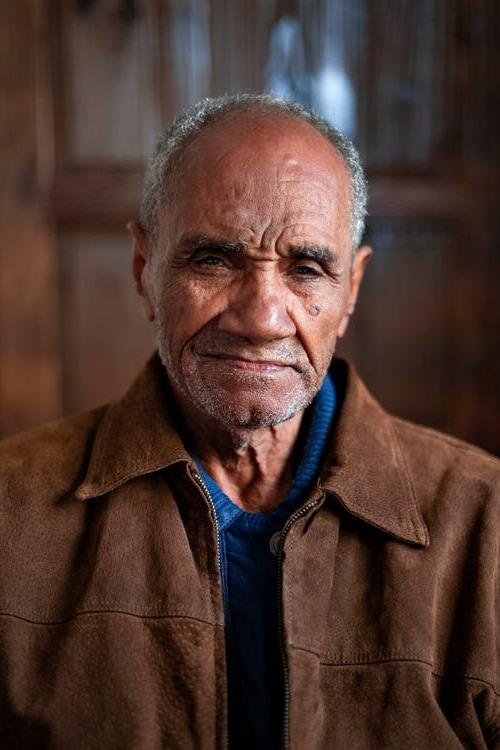Wrinkles: (288, 224, 336, 240), (278, 181, 327, 192), (258, 218, 271, 250), (274, 227, 287, 258), (302, 197, 328, 208), (330, 284, 341, 289), (329, 280, 339, 283)
